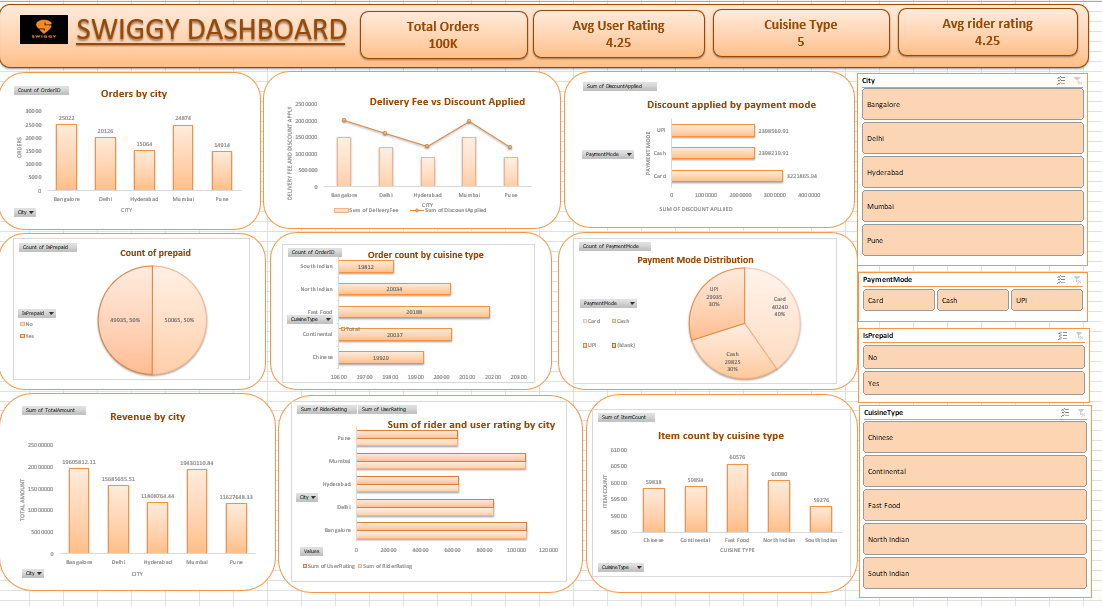

What the dashboard file says about the page in this screenshot:
{"tool":"tableau","page":{"name":"Dashboard 1","canvas":[1720,1160],"ordinal":0},"visuals":[{"type":"text","box":[5,4,1715,126]},{"type":"worksheet","title":"Sheet 2","mark":"Automatic","rows":["OrderID"],"cols":["OrderDatetime"],"box":[554,133,561,330]},{"type":"worksheet","title":"Sheet 3","mark":"Automatic","rows":["DeliveryFee"],"cols":["City"],"box":[1121,134,596,327]},{"type":"worksheet","title":"Sheet 1","mark":"Automatic","rows":["City"],"cols":["OrderValue"],"box":[7,135,542,324]},{"type":"worksheet","title":"Sheet 10","mark":"Circle","box":[4,461,510,350]},{"type":"worksheet","title":"Sheet 6","mark":"Automatic","rows":["UserID"],"cols":["TotalAmount"],"box":[516,464,593,344]},{"type":"worksheet","title":"Sheet 5","mark":"Automatic","box":[1112,464,607,347]},{"type":"legend","title":"Sheet 5","param":"[federated.0jja2vn1pwjt8g0zpawjo116l75y].[sum:TotalAmount:qk]","box":[1546,472,166,43]},{"type":"worksheet","title":"Sheet 9","mark":"Automatic","rows":["RestaurantID"],"cols":["OrderValue"],"box":[501,815,552,338]},{"type":"worksheet","title":"Sheet 7","mark":"Pie","box":[1057,815,334,337]},{"type":"worksheet","title":"Sheet 4","mark":"Circle","box":[1396,815,323,337]},{"type":"worksheet","title":"Sheet 8","mark":"Pie","box":[4,816,490,335]},{"type":"legend","title":"Sheet 7","param":"[federated.0jja2vn1pwjt8g0zpawjo116l75y].[cnt:OrderValue:qk]","box":[1079,1099,230,44]}]}

Visuals, with their boxes in screenshot pixels (x1, y1, x2, y2):
text: box=[11, 2, 863, 65]
"Sheet 2" worksheet: box=[284, 66, 562, 230]
"Sheet 3" worksheet: box=[565, 67, 861, 229]
"Sheet 1" worksheet: box=[12, 67, 281, 228]
"Sheet 10" worksheet (Circle marks): box=[11, 229, 264, 403]
"Sheet 6" worksheet: box=[265, 230, 559, 401]
"Sheet 5" worksheet: box=[561, 230, 862, 403]
"Sheet 5" legend: box=[776, 234, 859, 256]
"Sheet 9" worksheet: box=[257, 405, 531, 573]
"Sheet 7" worksheet (Pie marks): box=[533, 405, 699, 572]
"Sheet 4" worksheet (Circle marks): box=[702, 405, 862, 572]
"Sheet 8" worksheet (Pie marks): box=[11, 405, 254, 572]
"Sheet 7" legend: box=[544, 546, 659, 568]
